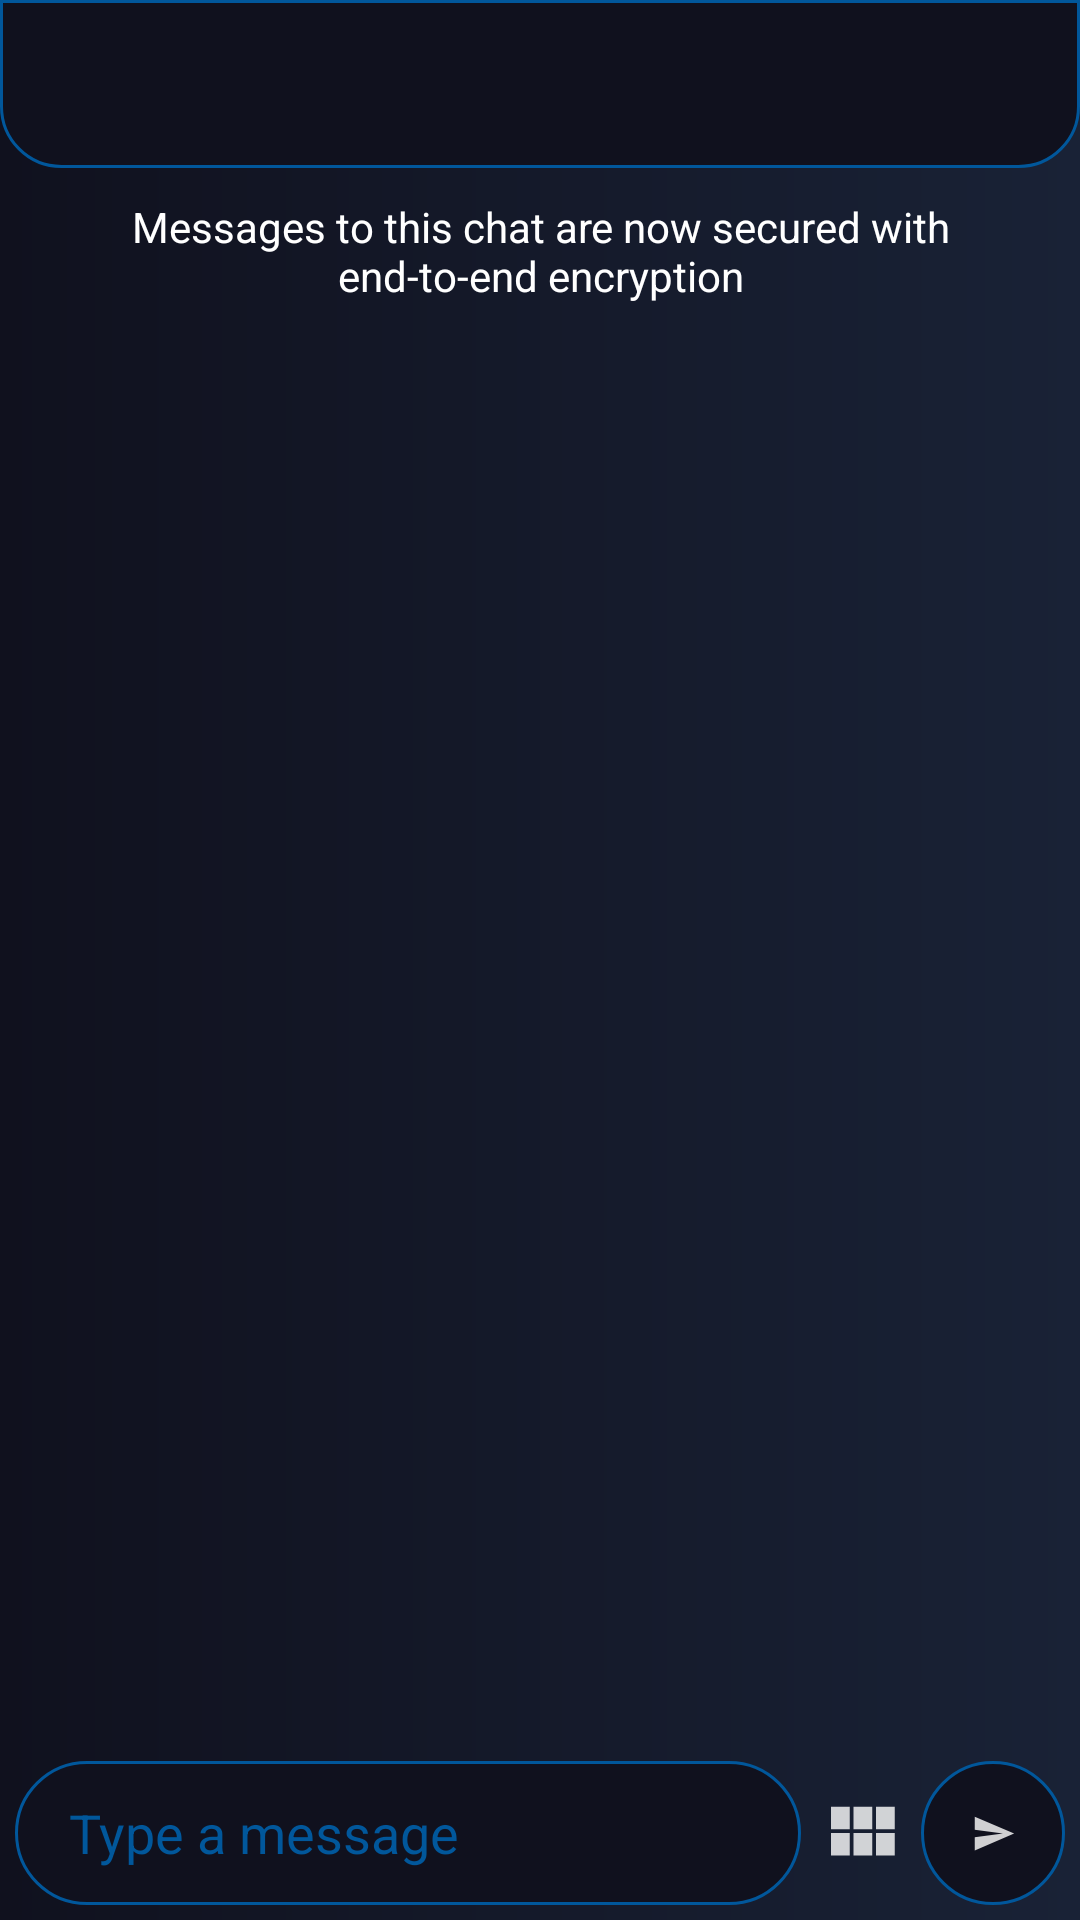

Point at icon controls on the screen. Image size 1080*1920, points as [x,y].
send message: [993,1833]
